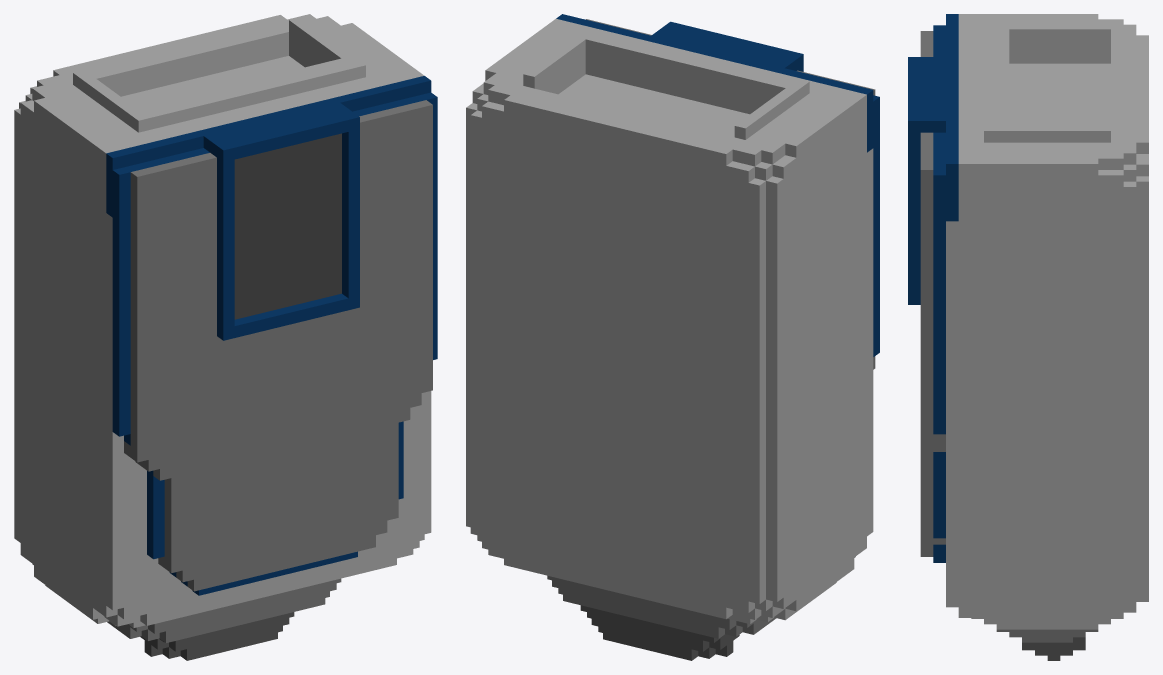
Rendered from RbtChest 1.obj.
3 renders of one model, left to right at view 1: azimuth 30°, elevation 25°; view 2: azimuth 150°, elevation 25°; view 3: azimuth 270°, elevation 25°, orthographic. The views are drawn at different scales.
Size of the model in its own units: 28 by 48 by 19.
Materials: 1 (1 with a texture image).
